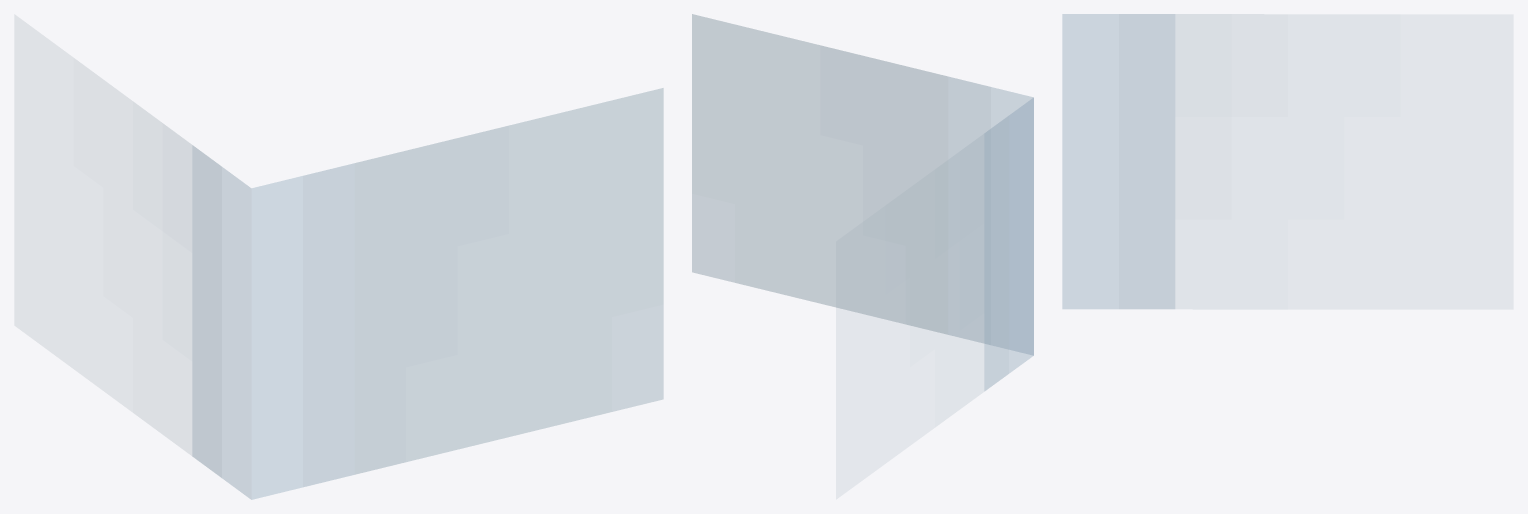
3 views of the same model, side by side, from view 1: azimuth 30°, elevation 25°; view 2: azimuth 150°, elevation 25°; view 3: azimuth 270°, elevation 25° (orthographic). The views are drawn at different scales.
Size of the model in its own units: 0.5 by 0.3613 by 0.5.
Materials: 1 (1 with a texture image).
